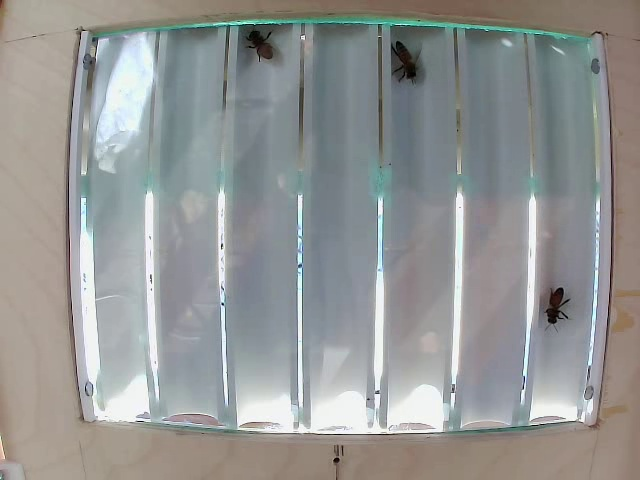bee: (385, 40, 432, 95), (245, 26, 280, 69), (542, 279, 566, 339)
